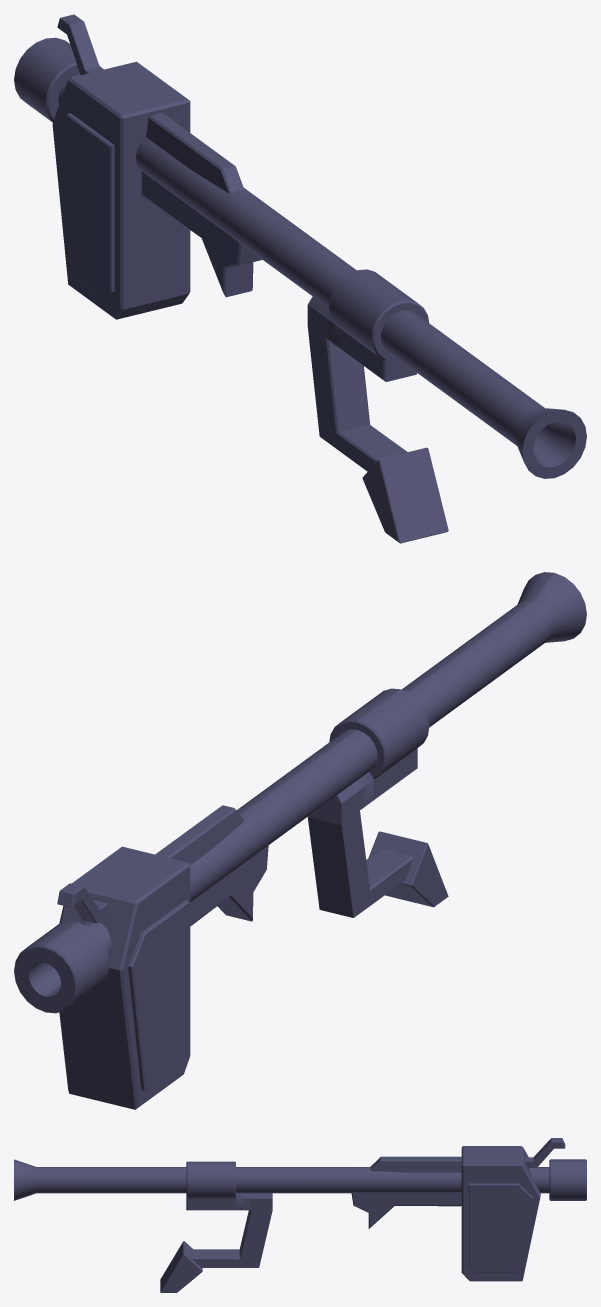
The model's file is rokeran1.fbx.
3 views of the same model, one above another, from view 1: azimuth 30°, elevation 25°; view 2: azimuth 150°, elevation 25°; view 3: azimuth 270°, elevation 25° (orthographic). The views are drawn at different scales.
Parts seen in each view (by area): view 1: polySurface3, polySurface1, polySurface2, polySurface4; view 2: polySurface3, polySurface1, polySurface2, polySurface4; view 3: polySurface3, polySurface1, polySurface2, polySurface4.
Boxes of the visible parts, bbox=[...] form: polySurface3: bbox=[52, 61, 262, 319]; polySurface1: bbox=[14, 37, 586, 478]; polySurface2: bbox=[307, 269, 448, 543]; polySurface4: bbox=[57, 14, 102, 74]; polySurface3: bbox=[59, 805, 268, 1109]; polySurface1: bbox=[14, 572, 586, 1013]; polySurface2: bbox=[307, 688, 448, 917]; polySurface4: bbox=[57, 883, 107, 923]; polySurface3: bbox=[351, 1146, 540, 1281]; polySurface1: bbox=[14, 1159, 586, 1200]; polySurface2: bbox=[160, 1161, 272, 1292]; polySurface4: bbox=[524, 1138, 565, 1167].
Bounding box in the file's own units: 2.6 × 8.22 × 29.15.
